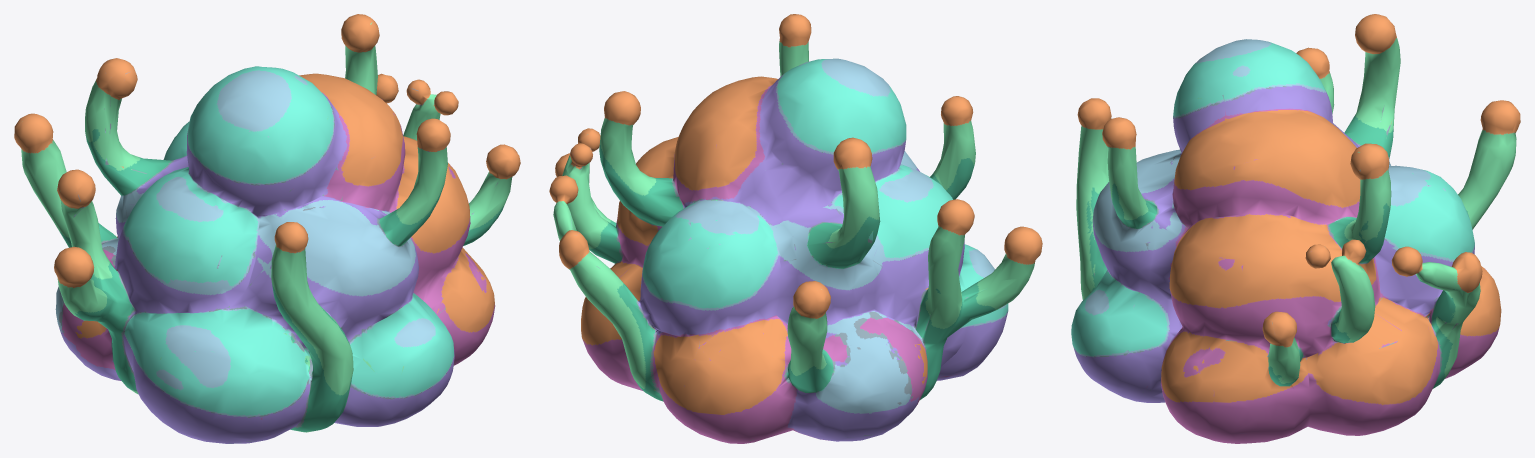
File: coral3.glb
3 renders of one model, left to right at view 1: azimuth 30°, elevation 25°; view 2: azimuth 150°, elevation 25°; view 3: azimuth 270°, elevation 25°, orthographic. The views are drawn at different scales.
Parts seen in each view (by area): view 1: Mesh_0; view 2: Mesh_0; view 3: Mesh_0.
Part boxes in pixels (x1,y1,x2,y2): Mesh_0: (14, 14, 520, 443); Mesh_0: (549, 14, 1042, 443); Mesh_0: (1071, 14, 1520, 443).
Bounding box in the file's own units: 1.9 × 1.22 × 1.55.
Materials: 1 (1 with a texture image).
